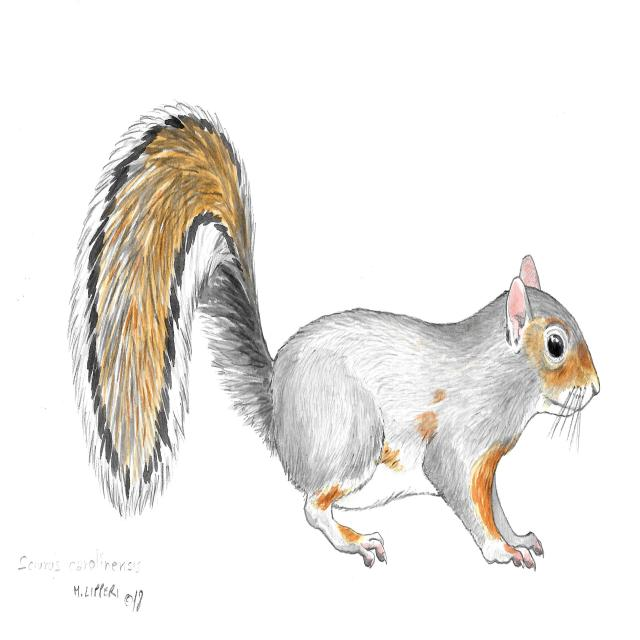Squirrel: (69, 93, 603, 562)
